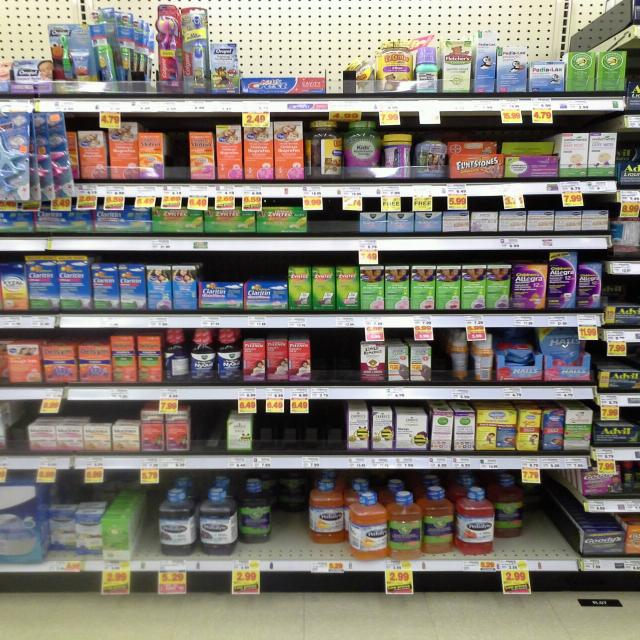void: (529, 482, 570, 576), (331, 26, 375, 94), (128, 492, 158, 582), (318, 331, 352, 402), (286, 406, 320, 477), (163, 117, 189, 199), (323, 406, 349, 477), (193, 408, 221, 470), (309, 212, 351, 250), (262, 416, 286, 472)
